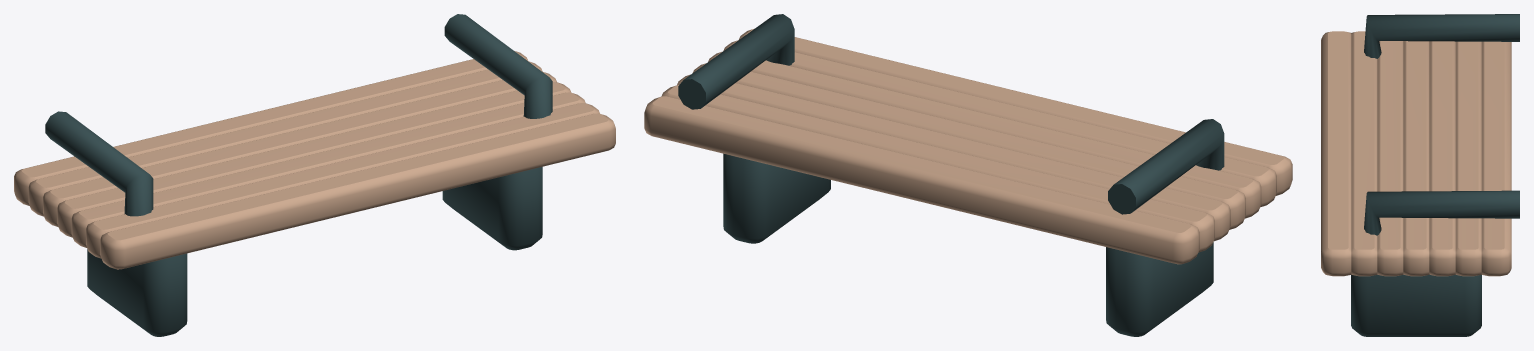
The model's file is bench_5.glb.
3 renders of one model, left to right at view 1: azimuth 30°, elevation 25°; view 2: azimuth 150°, elevation 25°; view 3: azimuth 270°, elevation 25°, orthographic. The views are drawn at different scales.
Parts seen in each view (by area): view 1: Bench; view 2: Bench; view 3: Bench.
Part boxes in pixels (bbox=[...]): Bench: bbox=[14, 14, 615, 336]; Bench: bbox=[644, 14, 1292, 336]; Bench: bbox=[1321, 14, 1519, 336].
Size of the model in its own units: 2.31 by 0.717 by 0.865.
